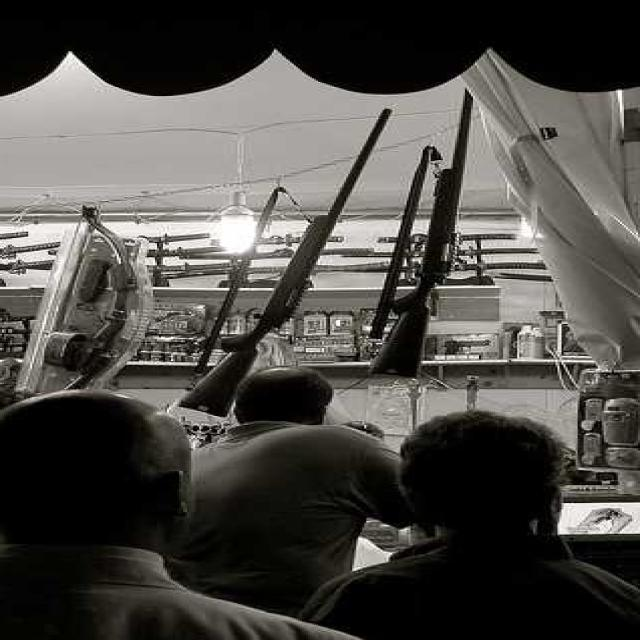heavyweapon: (164, 105, 420, 423), (362, 51, 539, 384)
